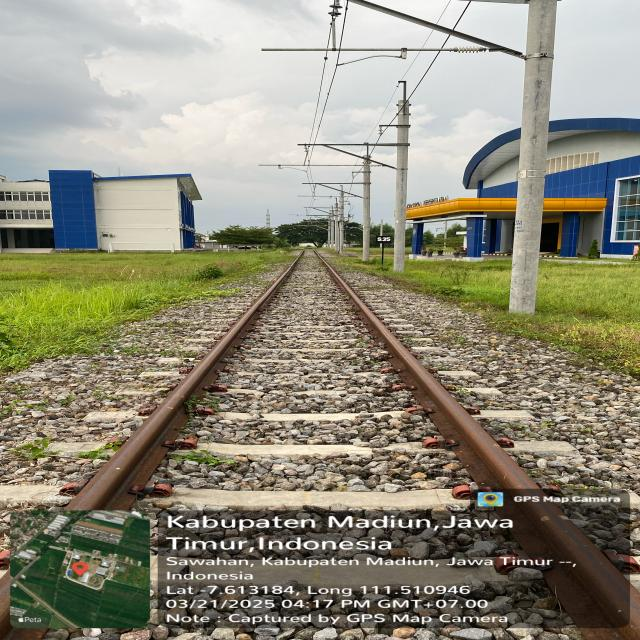rail-detection: (314, 249, 640, 640), (66, 250, 303, 510)
